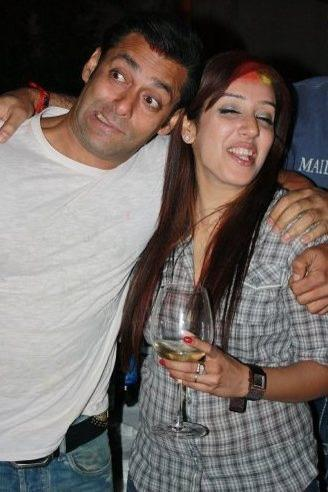Drunk: (89, 35, 174, 152), (203, 76, 269, 185)
